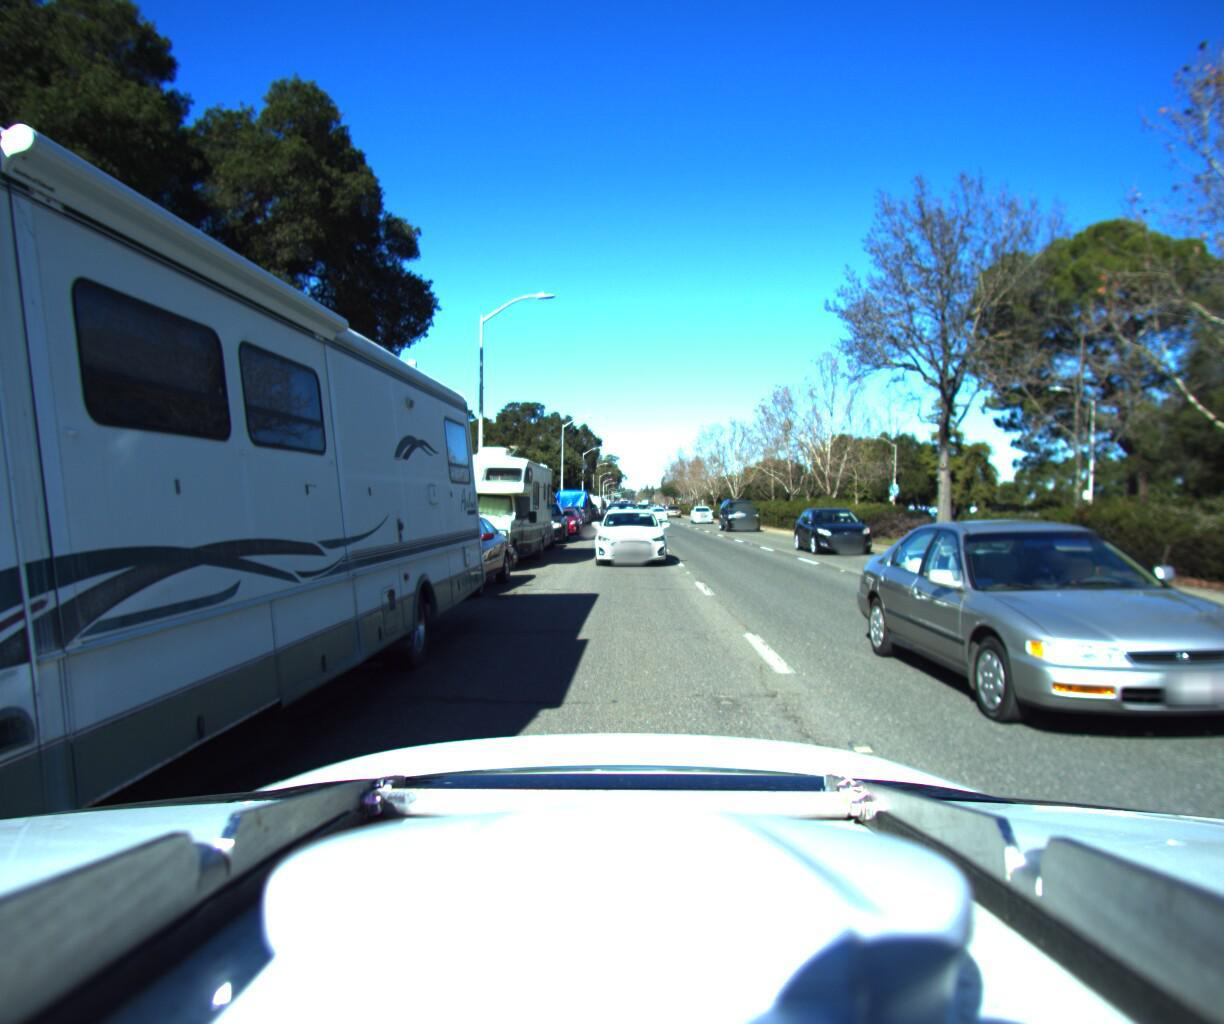car: (881, 497, 1224, 844), (351, 505, 519, 604), (795, 499, 898, 552), (594, 499, 669, 563), (507, 492, 572, 541), (543, 499, 583, 530), (721, 498, 766, 525), (689, 495, 715, 516), (646, 494, 667, 514)
other_vehicle: (0, 0, 498, 1024), (408, 428, 560, 570), (549, 481, 591, 521)
